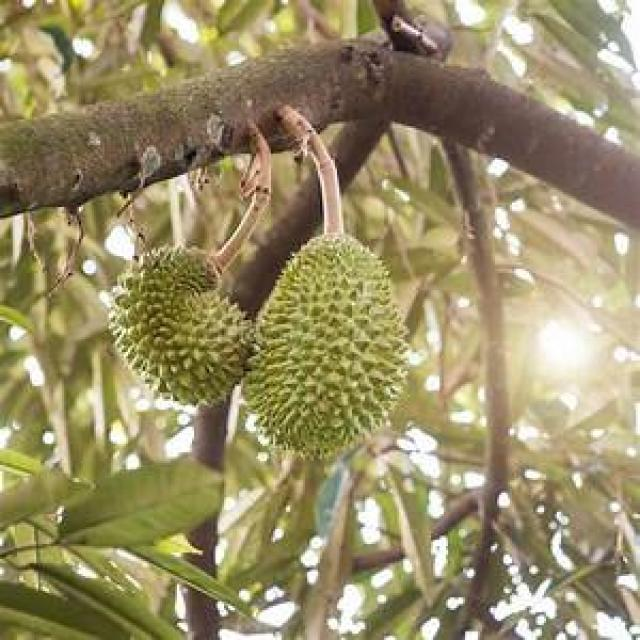immature: (241, 233, 411, 465), (107, 243, 263, 413)
